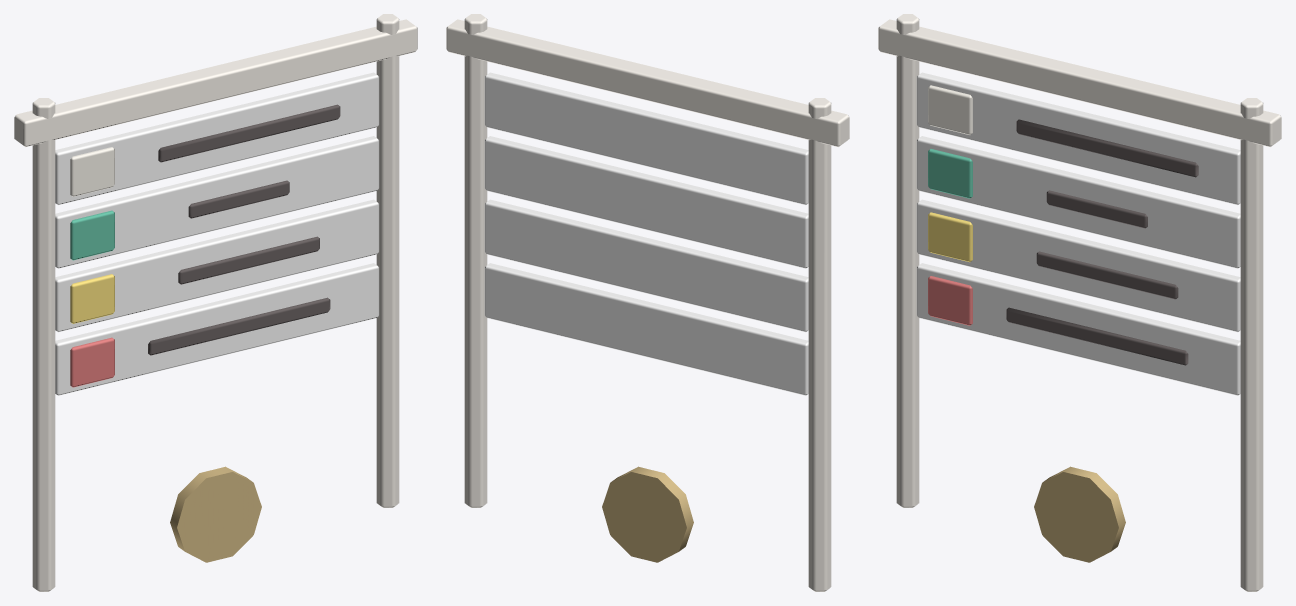
Rendered from prop_scoreboard.glb.
3 renders of one model, left to right at view 1: azimuth 30°, elevation 25°; view 2: azimuth 150°, elevation 25°; view 3: azimuth 330°, elevation 25°, orthographic.
Parts seen in each view (by area): view 1: prop_scoreboard; view 2: prop_scoreboard; view 3: prop_scoreboard.
Boxes of the visible parts, x1,y1,x2,y2 form: prop_scoreboard: (14,14,417,591); prop_scoreboard: (446,14,849,591); prop_scoreboard: (878,14,1281,591).
Bounding box in the file's own units: 3.9 × 4.7 × 0.2.
